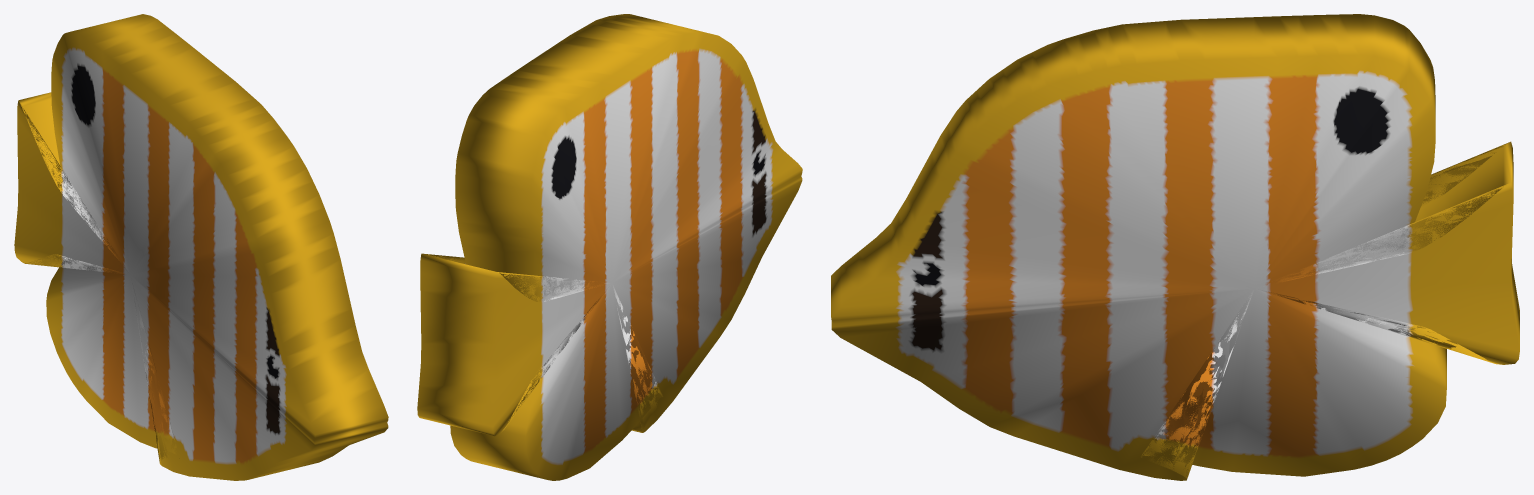
The model's file is bluecheekbutterflyfish.glb.
3 views of the same model, side by side, from view 1: azimuth 30°, elevation 25°; view 2: azimuth 150°, elevation 25°; view 3: azimuth 270°, elevation 25° (orthographic). The views are drawn at different scales.
Visible parts, largest first — view 1: bluecheekbutterflyfish; view 2: bluecheekbutterflyfish; view 3: bluecheekbutterflyfish.
Boxes of the visible parts, x1=… form: bluecheekbutterflyfish: x1=14, y1=14, x2=388, y2=480; bluecheekbutterflyfish: x1=417, y1=14, x2=802, y2=480; bluecheekbutterflyfish: x1=831, y1=14, x2=1519, y2=480.
Bounding box in the file's own units: 0.2111 × 1.02 × 1.5.
